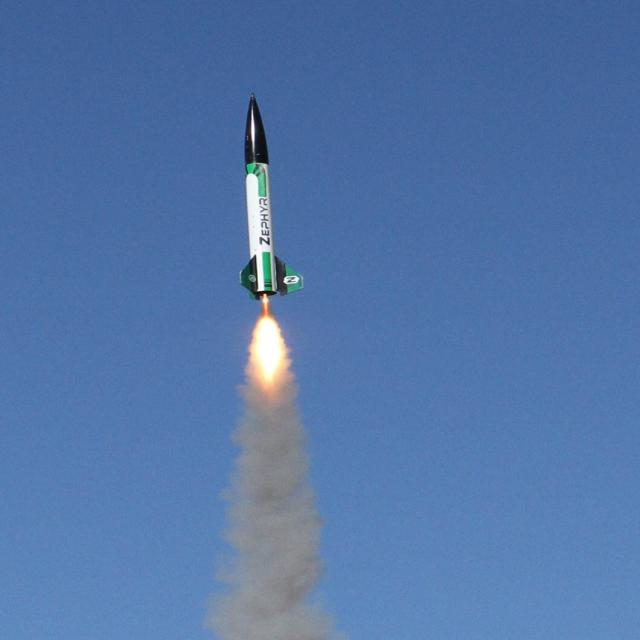Rocket: (236, 91, 306, 301)
